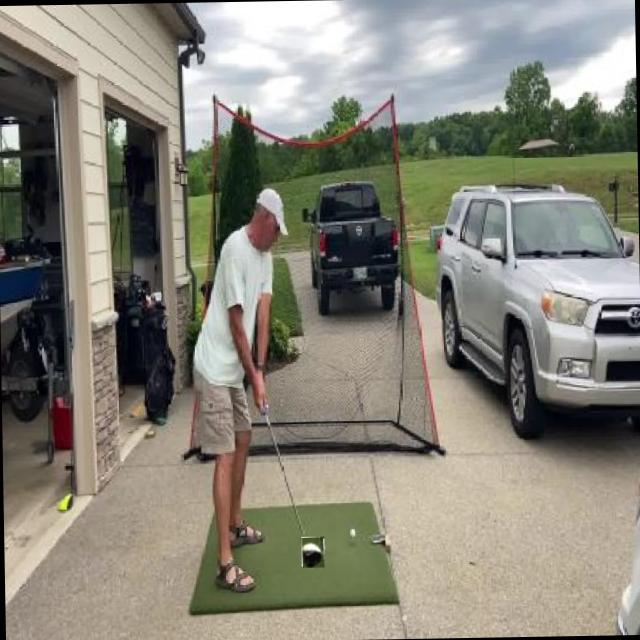club head: (302, 536, 324, 567)
